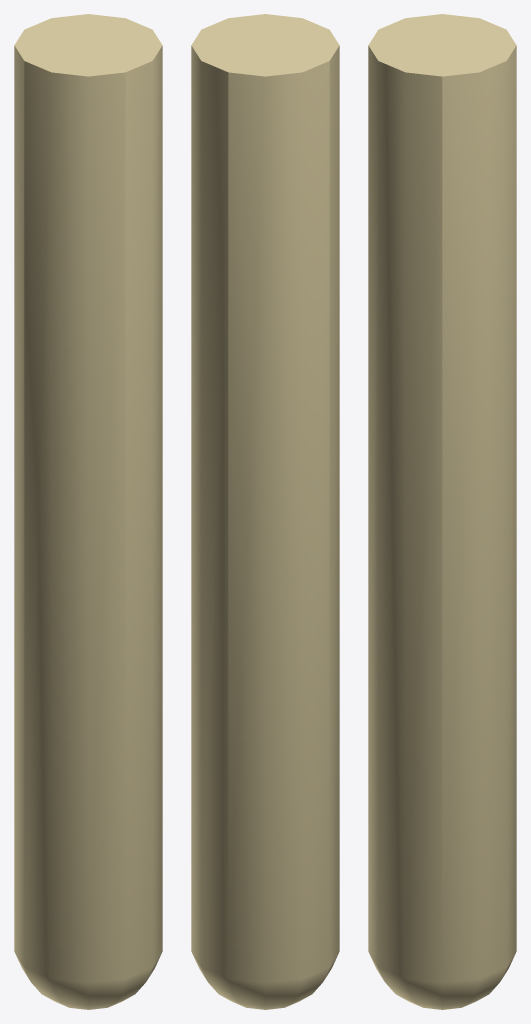
The model's file is Test_Tube_Liquid.fbx.
3 renders of one model, left to right at view 1: azimuth 30°, elevation 25°; view 2: azimuth 150°, elevation 25°; view 3: azimuth 270°, elevation 25°, orthographic.
Visible parts, largest first — view 1: Liquid; view 2: Liquid; view 3: Liquid.
Boxes of the visible parts, x1,y1,x2,y2 form: Liquid: (14, 14, 162, 1009); Liquid: (191, 14, 339, 1009); Liquid: (368, 14, 516, 1009).
Bounding box in the file's own units: 2.54 × 18.1 × 2.54.
